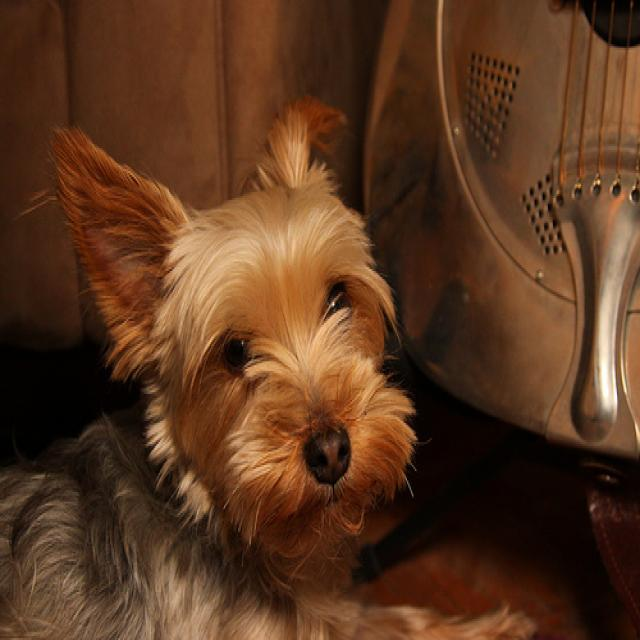dog-yorkshire_terrier: (1, 94, 527, 636)
